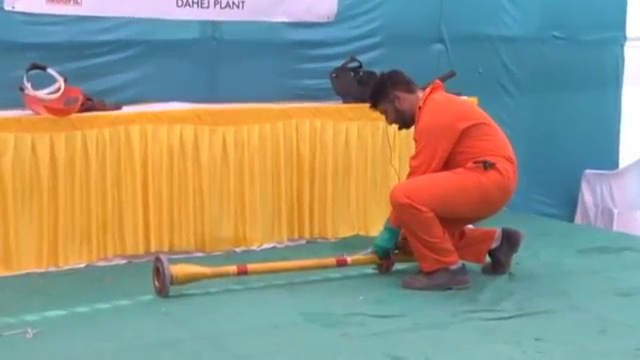helmet_off: (369, 69, 419, 133)
person: (359, 67, 526, 294)
